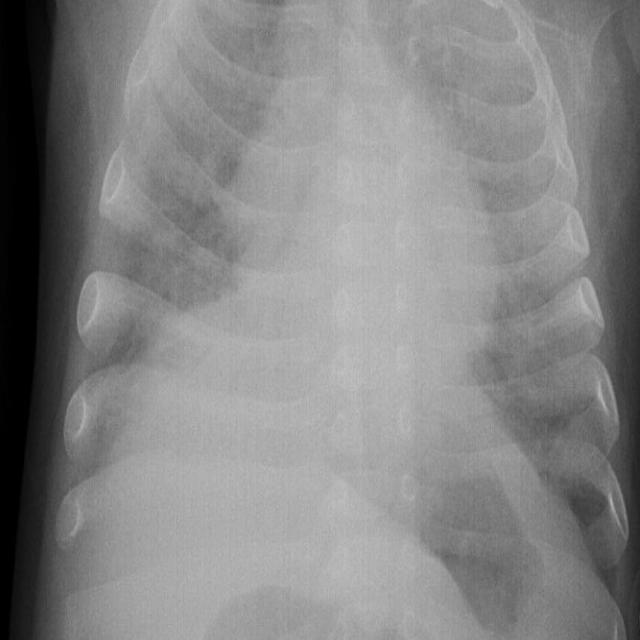high-pneumonia: (428, 6, 587, 469), (127, 1, 307, 309)
